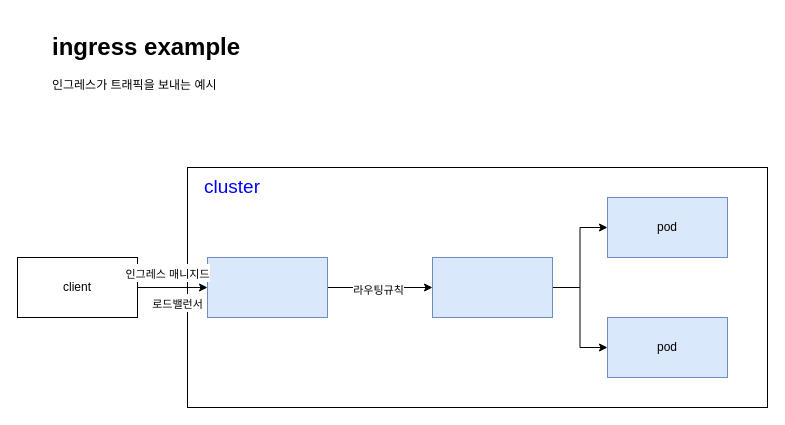
This 785x425 diagram has some shape labels left out. The shapes that lost their labels are listed below. From the top down, each one's centre as x and y in pixels, then its label:
At pixel 267 287: "ingress".
At pixel 492 287: "service".
